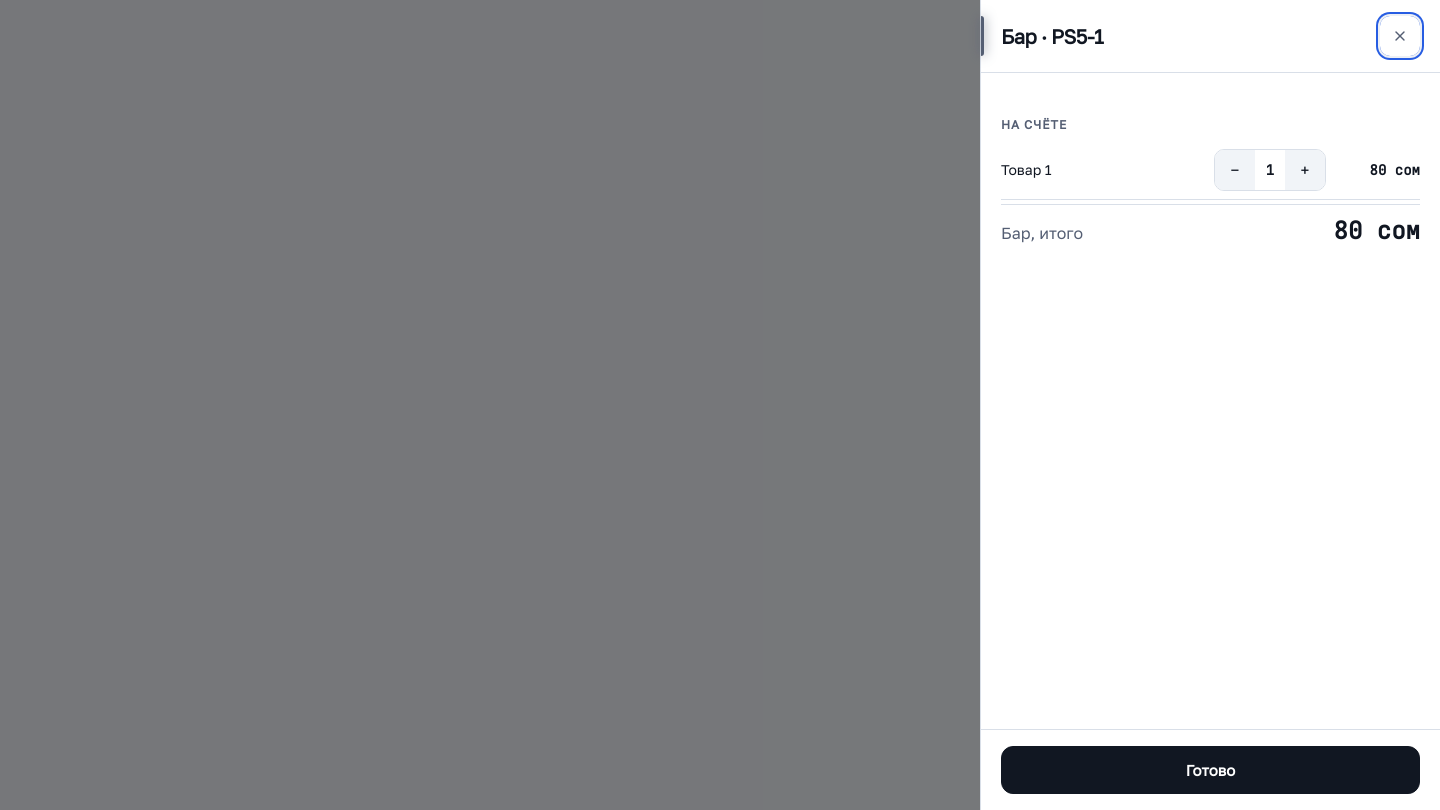
Scenario: BarDialog › shows an error when removing an item fails
Click the button named "Убрать одну" at coordinates (1235, 170), box [1215,150,1255,190]
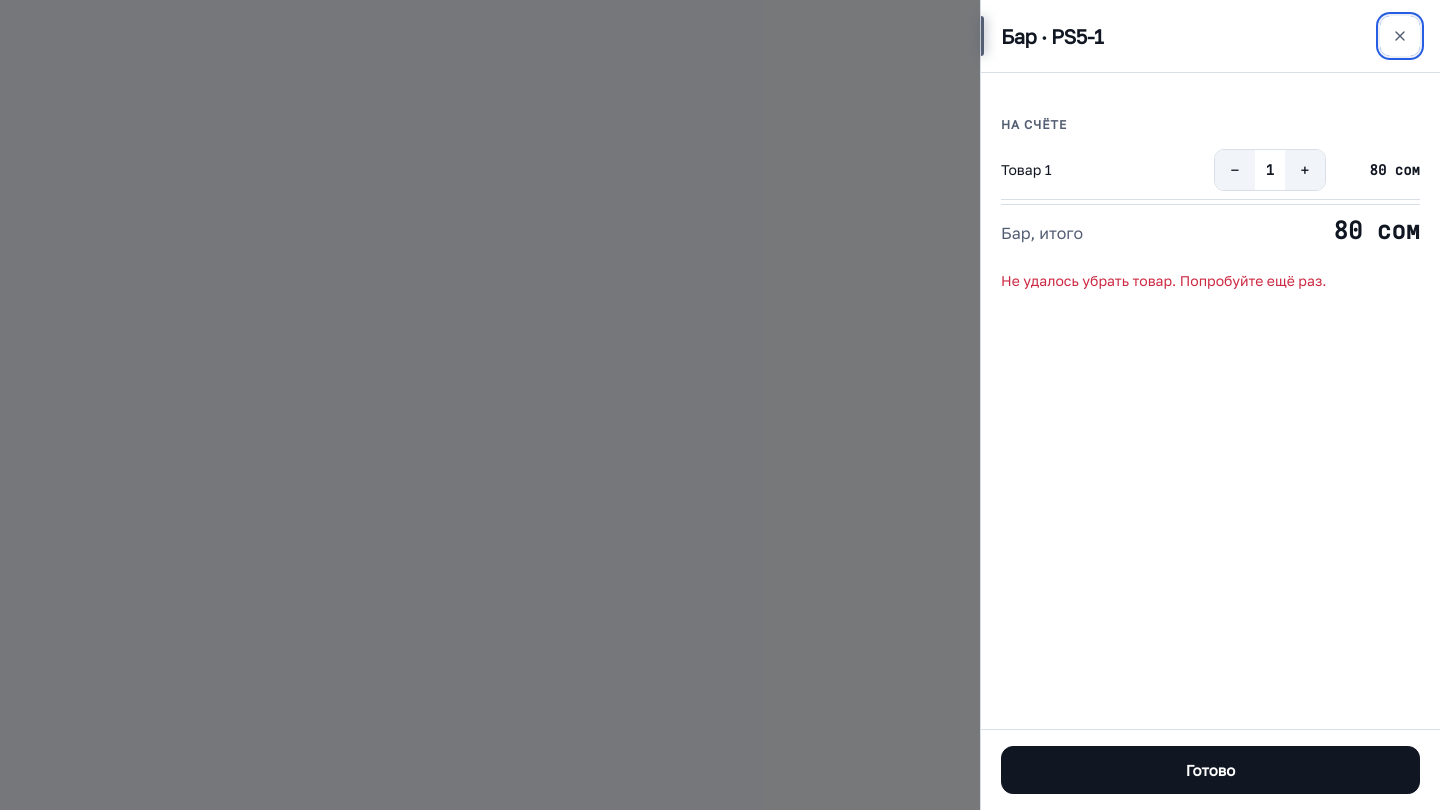
Result: the text "Не удалось убрать товар. Попробуйте ещё раз." is shown at [1001,272,1326,289]
